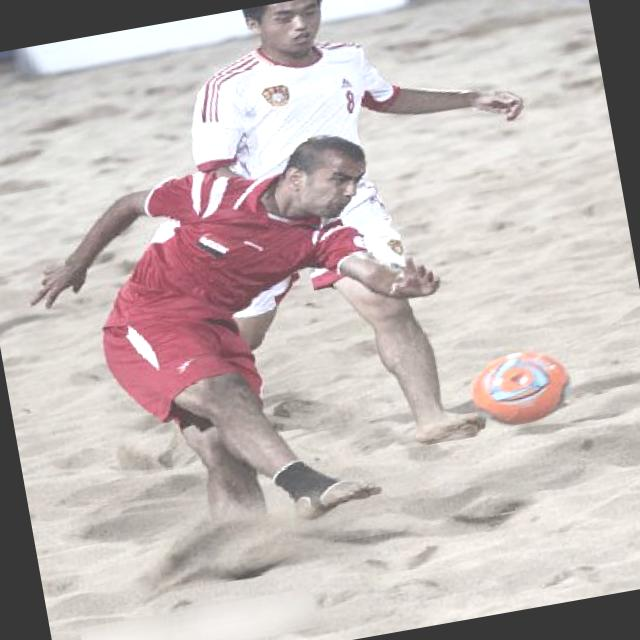Person: (0, 111, 491, 586)
